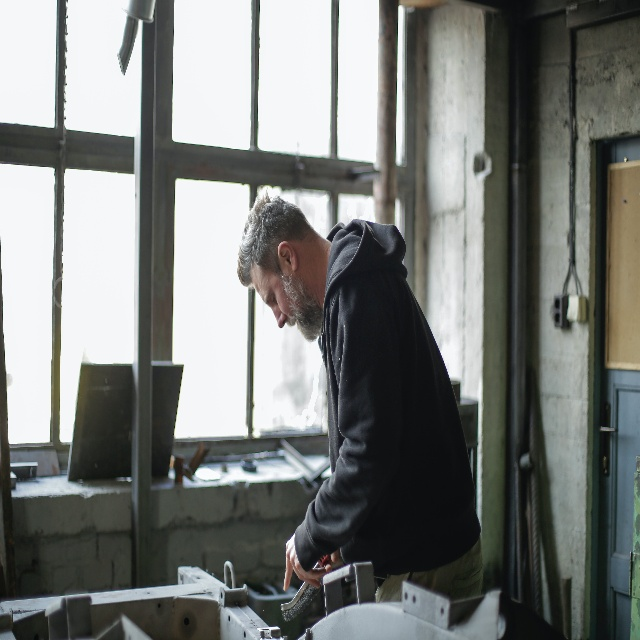Sin_guantes: (282, 534, 328, 593)
